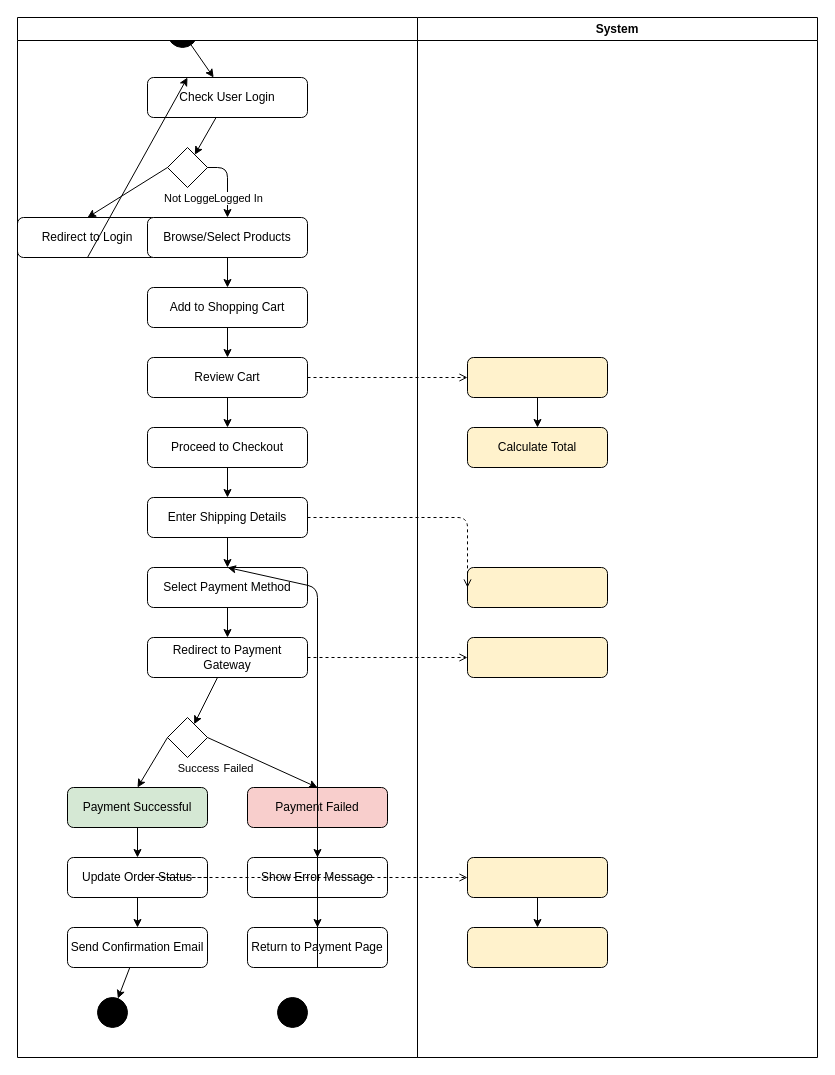
The diagram is 835 pixels wide and 1075 high, and some of its shapes have lost their labels. The shapes that lost their labels are listed below. From the top down, each one's centre as x and y in pixels, then its label:
At (x=537, y=377): "Validate Cart Items".
At (x=217, y=537): "Customer".
At (x=537, y=587): "Create Order in DB".
At (x=537, y=657): "Call Payment API".
At (x=537, y=877): "Update Inventory".
At (x=537, y=947): "Notify Seller".
